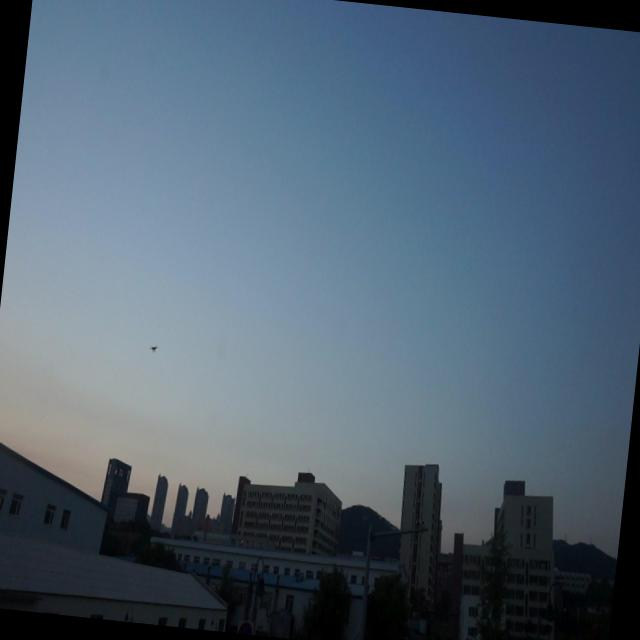drone: (147, 340, 159, 356)
